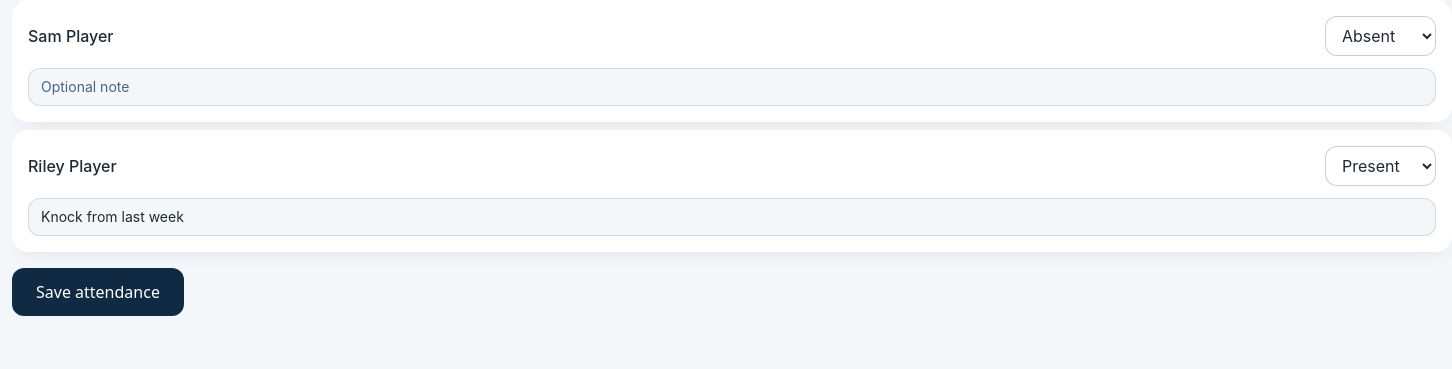
Test: AttendanceForm › PUTs the bulk payload and shows a saved confirmation
Select "Present" in the dropdown named "status for sam player": (1380, 36) [1325,16,1436,56]
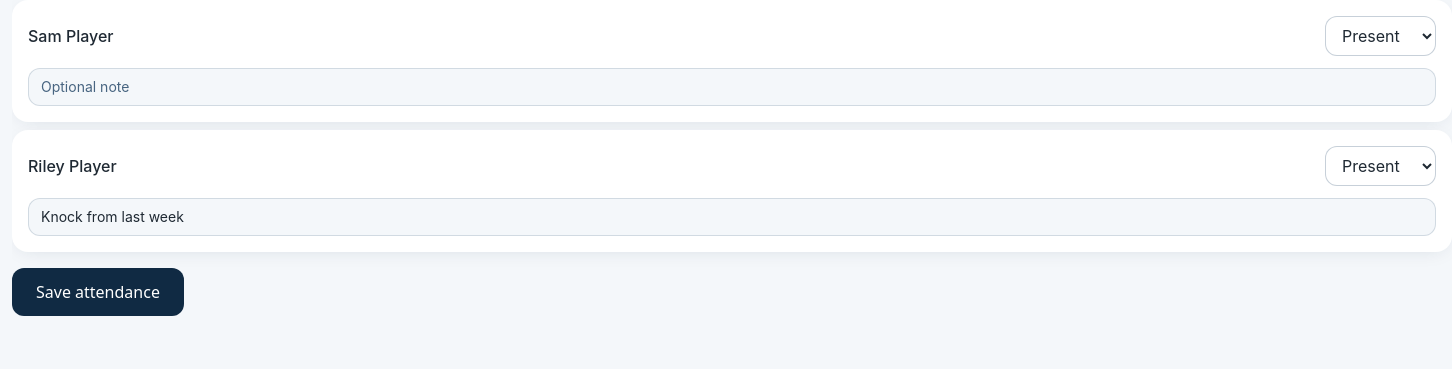
In the field named "note for sam player": (732, 87) [28,68,1436,106], type "  On time  "
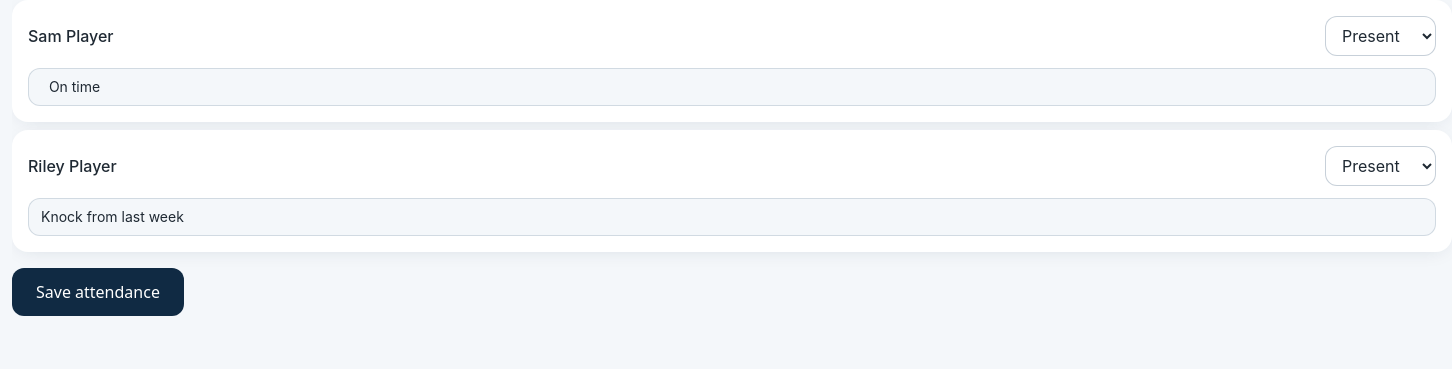
Submit the form named "record attendance"
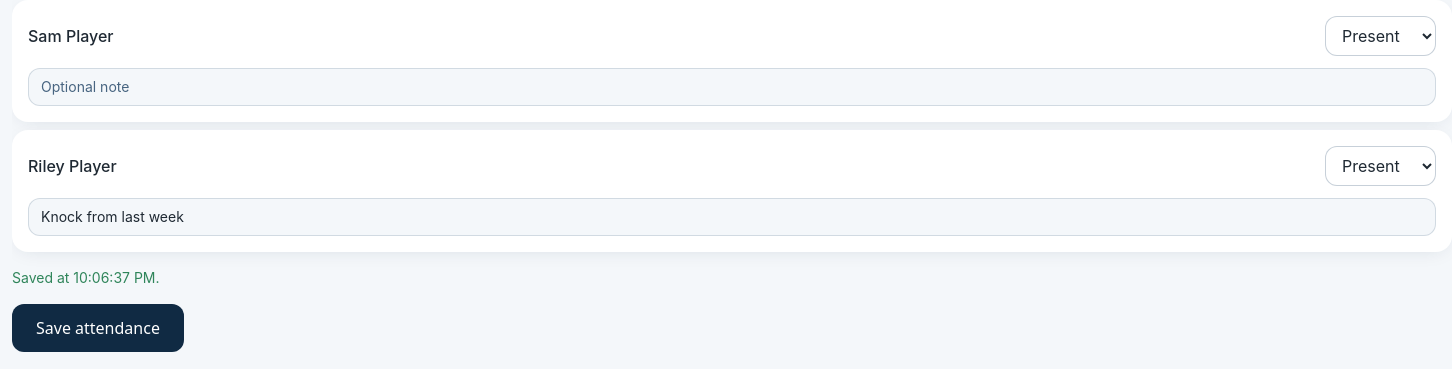
expect the message shows "Saved": met, box [12,269,73,286]
